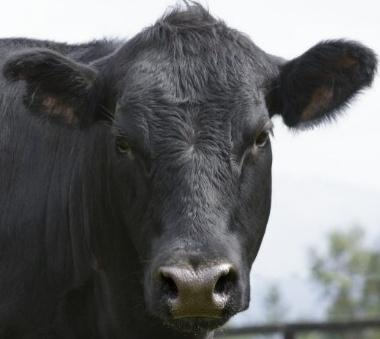muzzles: (143, 258, 258, 333)
